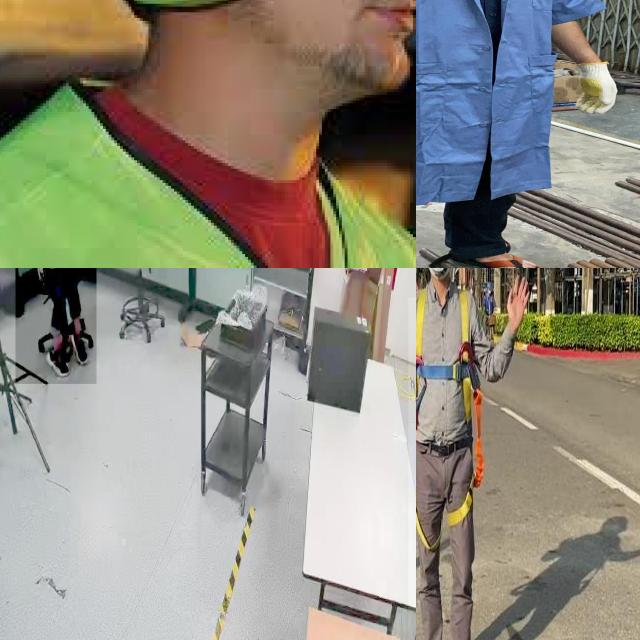Harness: (416, 288, 485, 530)
hand_glove: (556, 61, 633, 118)
hand_noglove: (34, 268, 45, 284)
person: (416, 0, 617, 268), (15, 268, 96, 385)
shoes: (41, 340, 71, 385), (70, 328, 91, 370)
